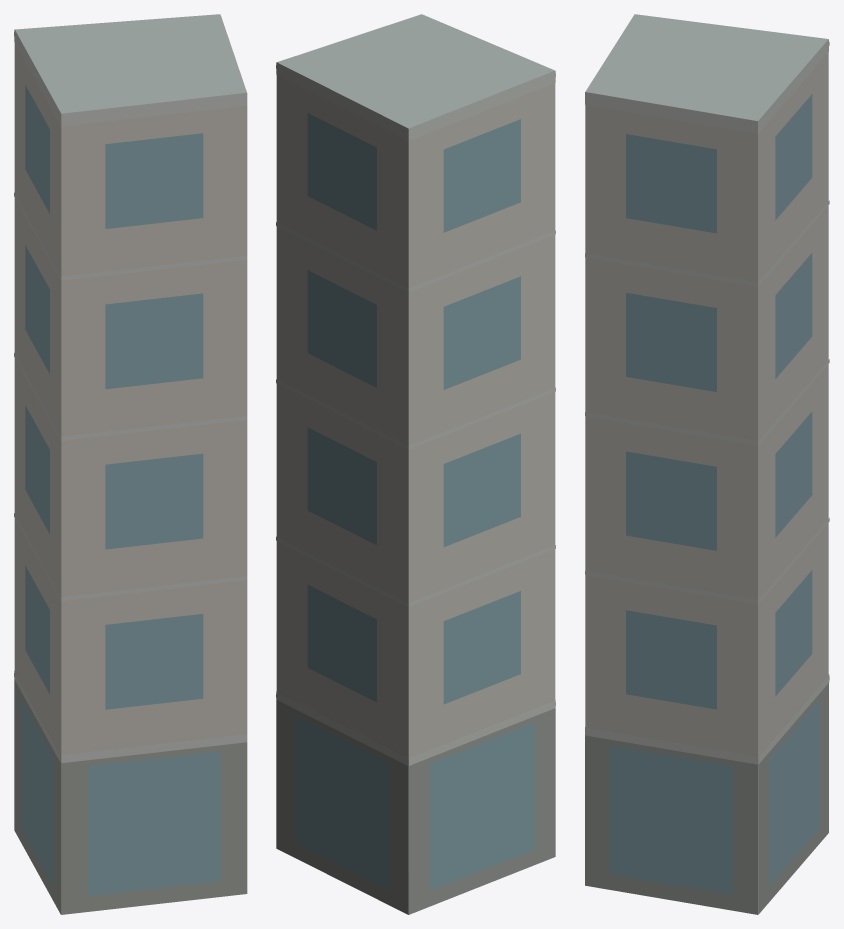
Rendered from survey-upis-32817757.glb.
3 renders of one model, left to right at view 1: azimuth 30°, elevation 25°; view 2: azimuth 150°, elevation 25°; view 3: azimuth 270°, elevation 25°, orthographic.
Parts seen in each view (by area): view 1: survey-upis-32817757.tmp; view 2: survey-upis-32817757.tmp; view 3: survey-upis-32817757.tmp.
Boxes of the visible parts, bbox=[...] form: survey-upis-32817757.tmp: bbox=[14, 14, 247, 914]; survey-upis-32817757.tmp: bbox=[276, 14, 555, 914]; survey-upis-32817757.tmp: bbox=[585, 14, 829, 914].
Bounding box in the file's own units: 4.44 × 15.25 × 4.27.
